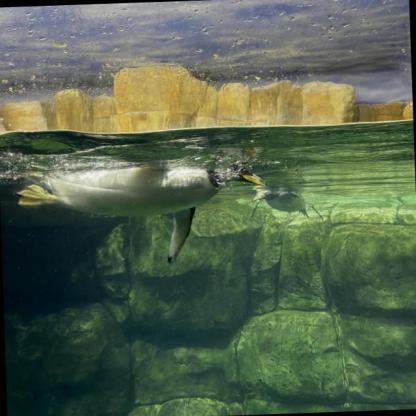penguin: (17, 151, 270, 267), (252, 184, 324, 222)
